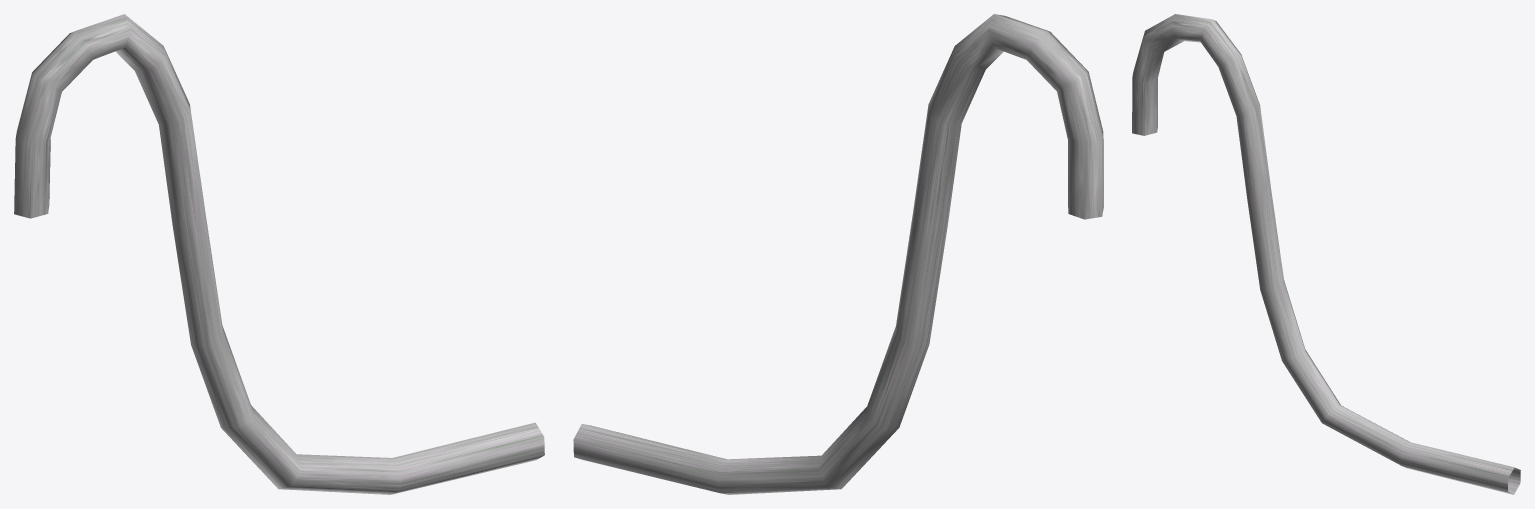
The model's file is cable_accessory_power_cord_plug_cable.dae.
3 renders of one model, left to right at view 1: azimuth 30°, elevation 25°; view 2: azimuth 150°, elevation 25°; view 3: azimuth 330°, elevation 25°, orthographic. The views are drawn at different scales.
Parts seen in each view (by area): view 1: Mesh__2_; view 2: Mesh__2_; view 3: Mesh__2_.
Boxes of the visible parts, x1,y1,x2,y2 form: Mesh__2_: (14, 14, 544, 494); Mesh__2_: (573, 14, 1103, 494); Mesh__2_: (1132, 14, 1520, 494).
Size of the model in its own units: 0.2574 by 0.258 by 0.0161.
